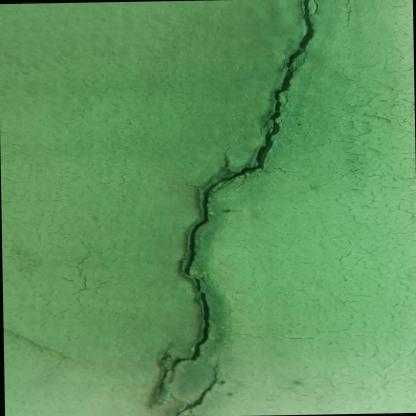crack: (166, 0, 315, 370), (178, 370, 218, 413)
